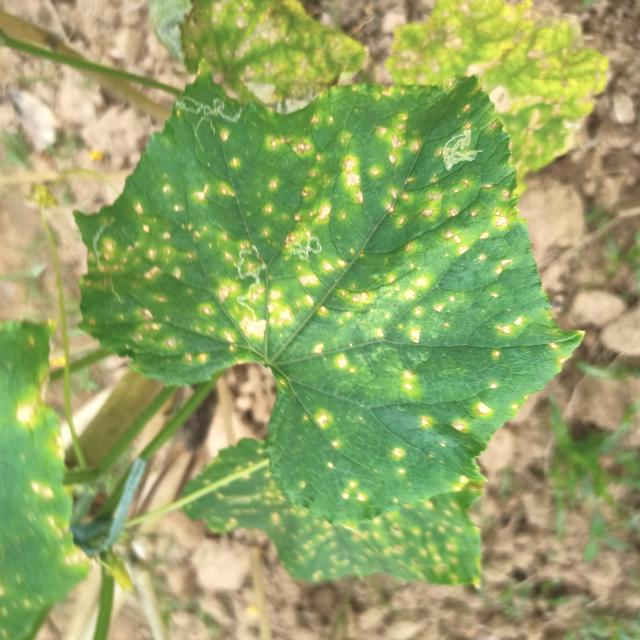disease_cucumber: (83, 88, 565, 376), (453, 378, 503, 436), (398, 366, 432, 429), (313, 404, 342, 469), (341, 474, 371, 506), (389, 439, 411, 477)
